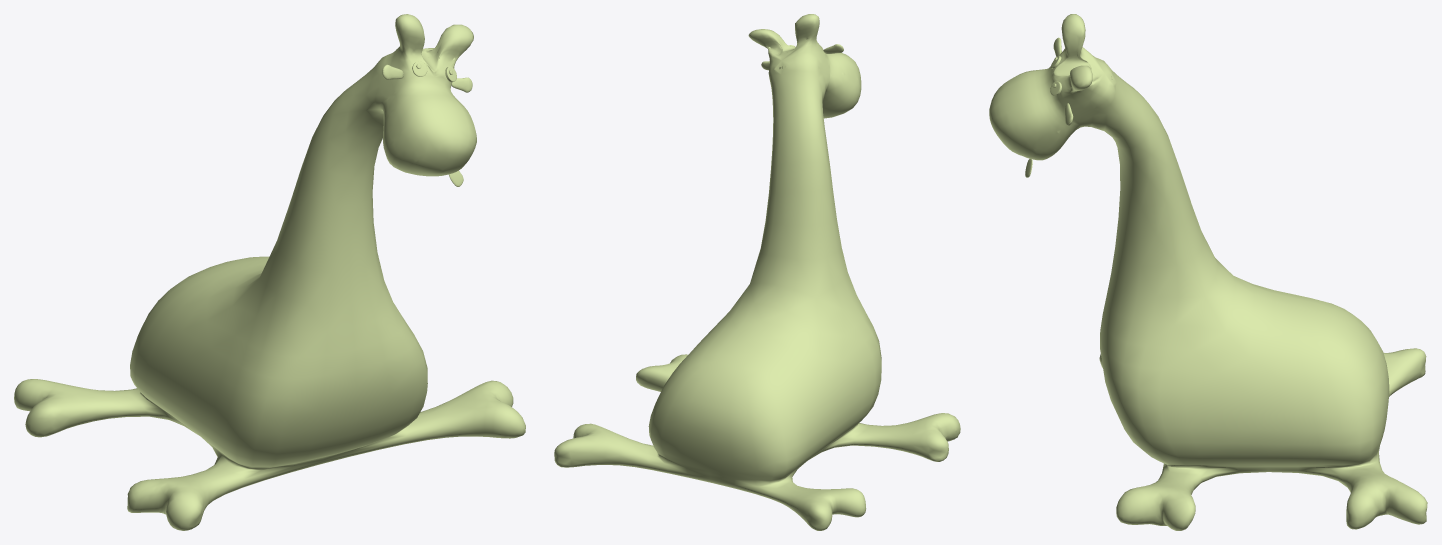
File: monster1.obj
3 renders of one model, left to right at view 1: azimuth 30°, elevation 25°; view 2: azimuth 150°, elevation 25°; view 3: azimuth 270°, elevation 25°, orthographic. The views are drawn at different scales.
Size of the model in its own units: 242 by 285 by 251.
